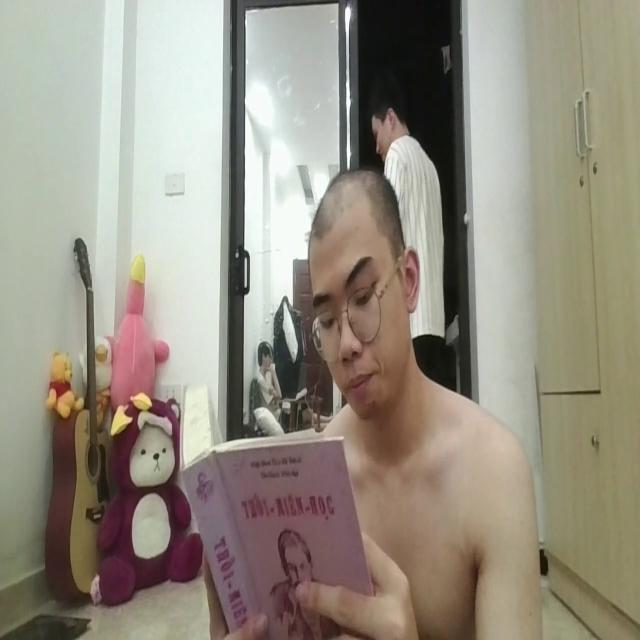book: (178, 383, 381, 640)
extra_person: (370, 86, 450, 372), (258, 329, 276, 406)
student: (298, 164, 547, 640)
